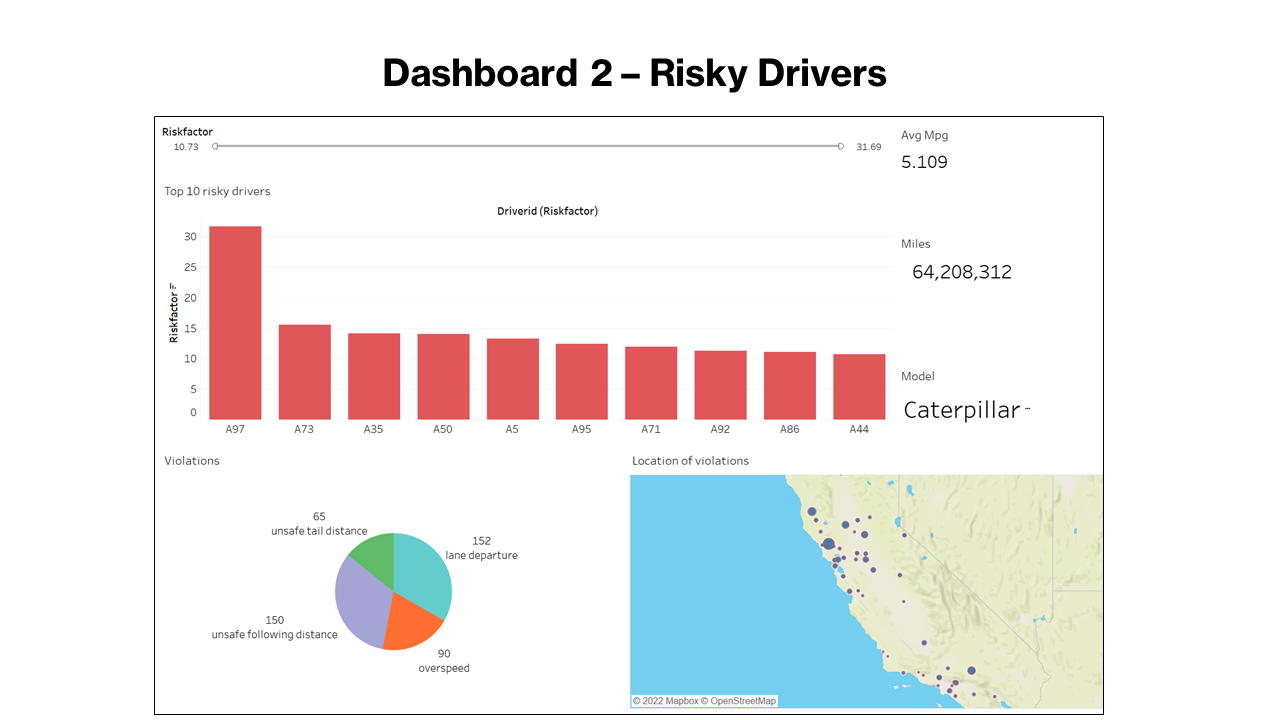

Layout of this report page (visuals, bound fields, positions):
{"tool":"tableau","page":{"name":"Dashboard 1 ","canvas":[1000,1000],"units":"permille","ordinal":0},"visuals":[{"type":"filter","title":"Risky drivers","param":"[federated.0z25t9i0pjwqii173v9iz1qpg4nh].[attr:riskfactor:qk]","box":[5.1,9.9,662.3,93.7]},{"type":"worksheet","title":"Avg Mpg","mark":"Automatic","box":[667.5,9.9,327.4,180.6]},{"type":"worksheet","title":"Risky drivers","mark":"Automatic","rows":["riskfactor"],"cols":["driverid (riskfactor)"],"box":[5.1,103.6,662.3,447.6]},{"type":"worksheet","title":"Miles","mark":"Automatic","box":[667.5,190.5,327.4,220.2]},{"type":"worksheet","title":"Model","mark":"Automatic","box":[667.5,410.6,327.4,140.5]},{"type":"worksheet","title":"PIE","mark":"Pie","box":[5.1,551.1,420.4,438.9]},{"type":"worksheet","title":"Map","mark":"Automatic","box":[425.5,551.1,569.4,438.9]}]}

Visuals, with their boxes on the dashboard's canvas, which has no fixed pixel size, in thousandths of its width and height (x1, y1, x2, y2). These are canvas units, not pixel positions in the 1280x720 screenshot, which may show the page scaled, cropped or inside an application window:
"Risky drivers" filter: (5, 10, 667, 104)
"Avg Mpg" worksheet: (668, 10, 995, 190)
"Risky drivers" worksheet: (5, 104, 667, 551)
"Miles" worksheet: (668, 190, 995, 411)
"Model" worksheet: (668, 411, 995, 551)
"PIE" worksheet (Pie marks): (5, 551, 426, 990)
"Map" worksheet: (426, 551, 995, 990)
